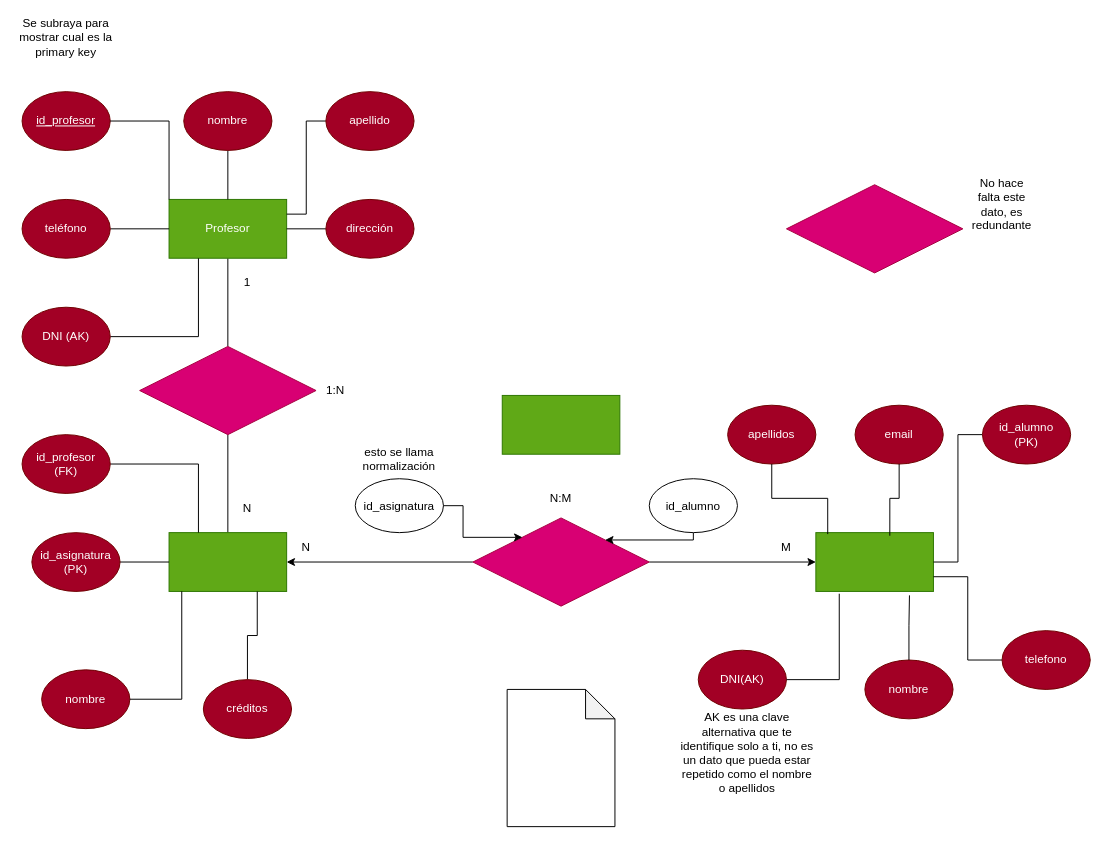
Image size: 1107x844. Some labels were removed from this diagram. Here are the shapes that lost their labels. From the top down, the centre of each, then its label:
At point (874, 228): "tiene".
At point (227, 390): "Imparte".
At point (560, 424): "Matrícula".
At point (227, 561): "Asignatura".
At point (560, 561): "se _matrícula".
At point (874, 561): "Alumno".
At point (560, 757): "Se van a convertir en una tabla intermedia (Matrícula)".
